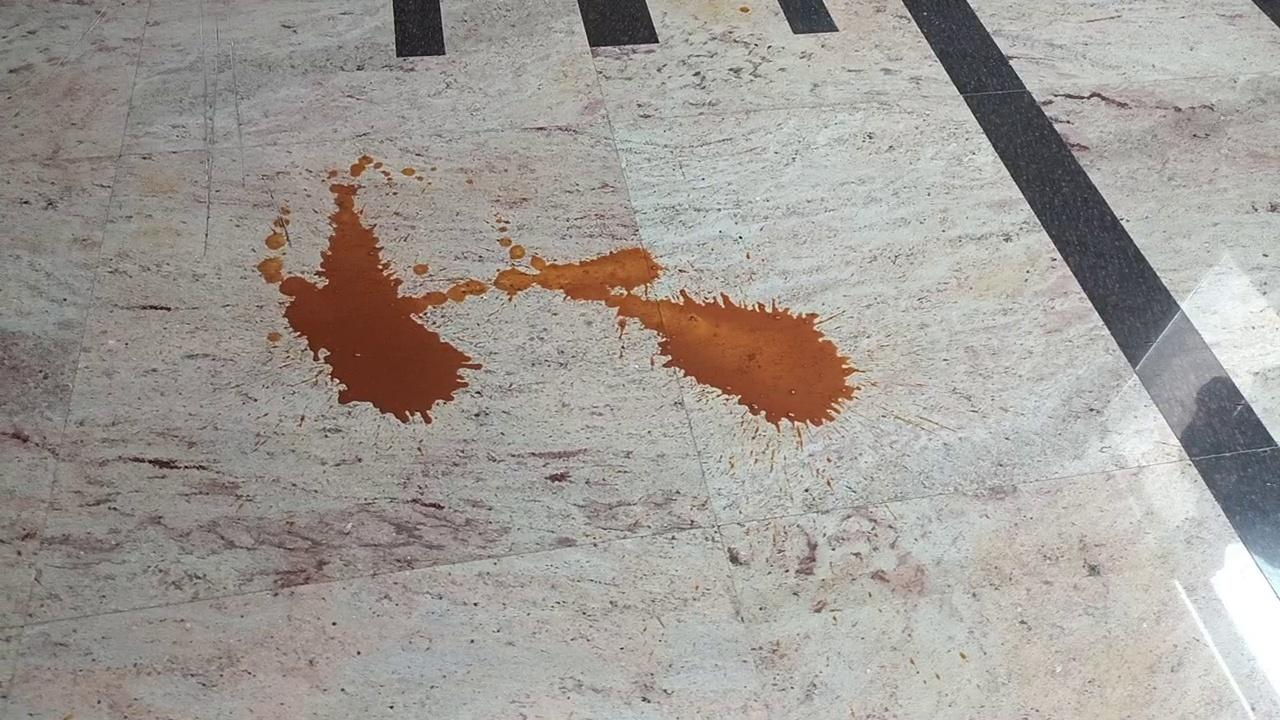dirty_floor: (270, 150, 865, 430)
